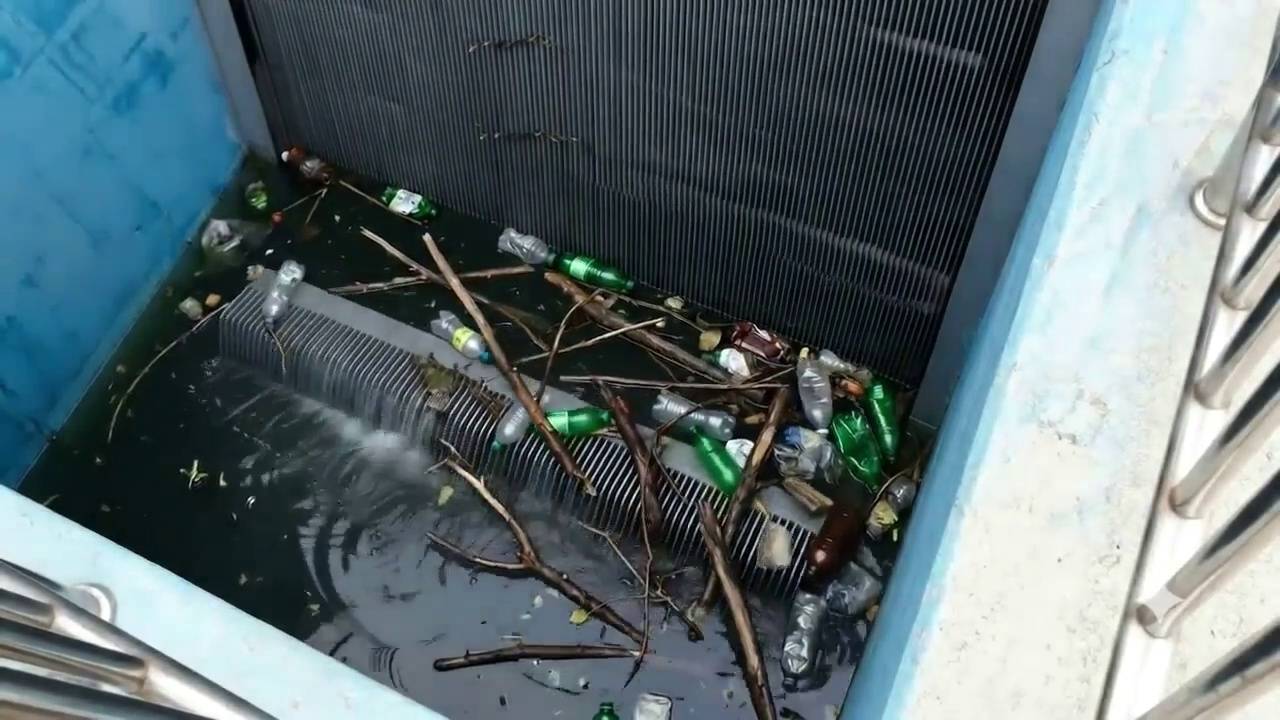debris: (497, 228, 902, 719), (361, 230, 665, 531), (429, 461, 648, 669), (784, 501, 865, 678), (281, 147, 361, 193), (262, 260, 304, 334), (365, 187, 437, 224), (206, 221, 247, 249)
